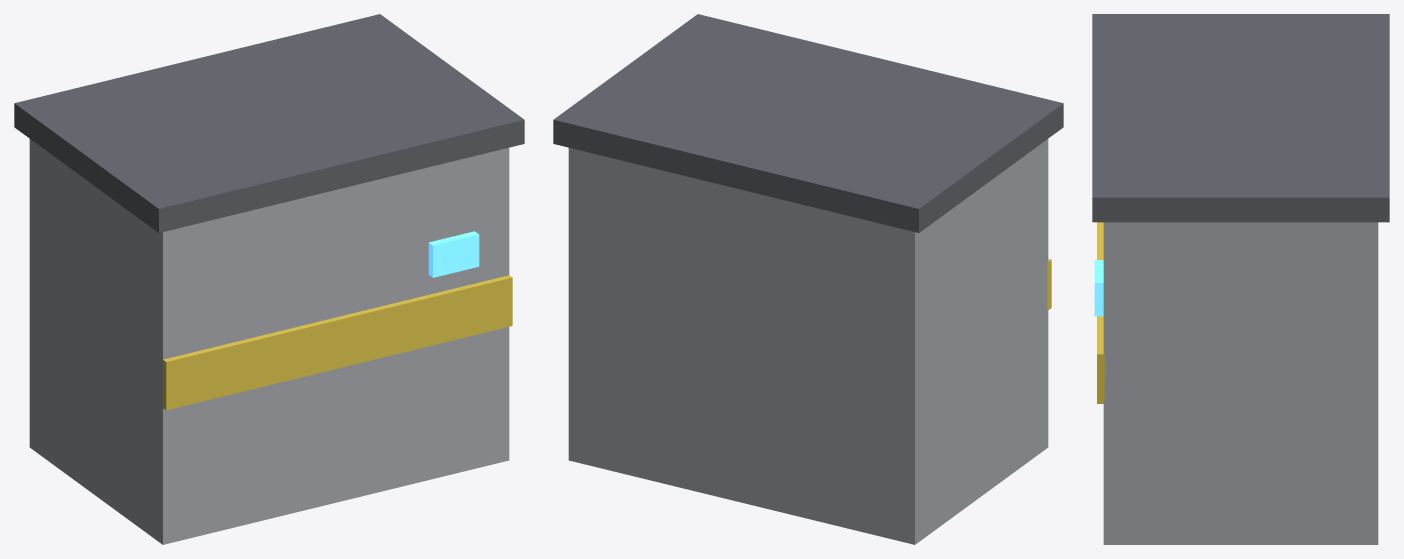
File: SalvageCrate.glb
3 renders of one model, left to right at view 1: azimuth 30°, elevation 25°; view 2: azimuth 150°, elevation 25°; view 3: azimuth 270°, elevation 25°, orthographic. The views are drawn at different scales.
Parts seen in each view (by area): view 1: SalvageCrate; view 2: SalvageCrate; view 3: SalvageCrate.
Part boxes in pixels (x1,y1,x2,y2): SalvageCrate: (14, 14, 524, 544); SalvageCrate: (553, 14, 1063, 544); SalvageCrate: (1092, 14, 1389, 544).
Size of the model in its own units: 0.95 by 0.85 by 0.65.
